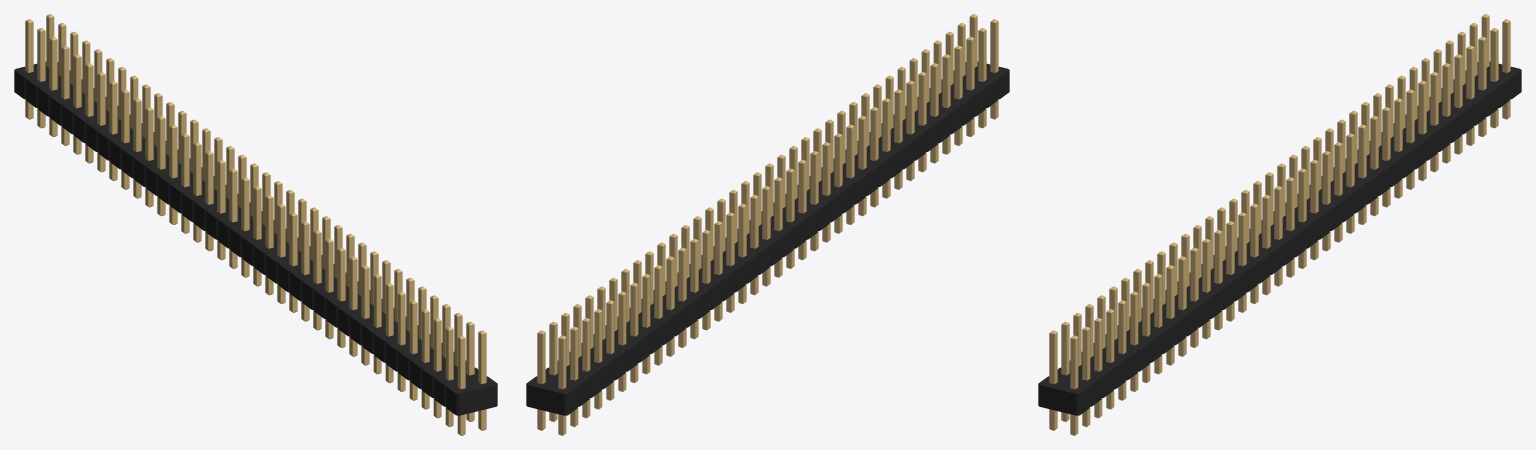
The model's file is kc-pinheader_2x37_p2.54mm_vertical.glb.
The picture shows the model from 3 angles, left to right: view 1: azimuth 30°, elevation 25°; view 2: azimuth 150°, elevation 25°; view 3: azimuth 330°, elevation 25°; orthographic projection.
Parts seen in each view (by area): view 1: 0.75_0.5_0.25_0.9, 0_0_0_0; view 2: 0.75_0.5_0.25_0.9, 0_0_0_0; view 3: 0.75_0.5_0.25_0.9, 0_0_0_0.
Part boxes in pixels (bbox=[...]): 0.75_0.5_0.25_0.9: bbox=[25, 14, 486, 435]; 0_0_0_0: bbox=[14, 61, 497, 415]; 0.75_0.5_0.25_0.9: bbox=[537, 14, 998, 435]; 0_0_0_0: bbox=[526, 61, 1009, 415]; 0.75_0.5_0.25_0.9: bbox=[1049, 14, 1510, 435]; 0_0_0_0: bbox=[1038, 61, 1521, 415].
Bounding box in the file's own units: 0.5082 × 1.15 × 9.4.
